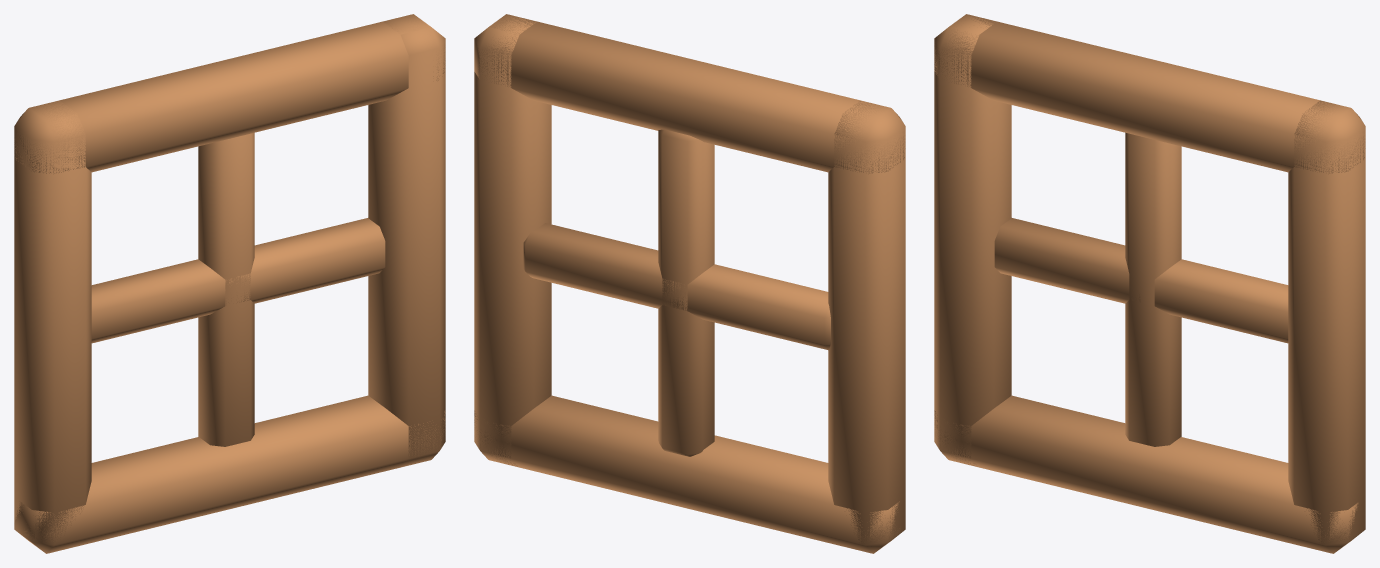
The model's file is Window_Cross.glb.
The picture shows the model from 3 angles, left to right: view 1: azimuth 30°, elevation 25°; view 2: azimuth 150°, elevation 25°; view 3: azimuth 330°, elevation 25°; orthographic projection.
Visible parts, largest first — view 1: Window_Cross; view 2: Window_Cross; view 3: Window_Cross.
Boxes of the visible parts, left/top/right/bottom form: Window_Cross: left=14, top=14, right=445, bottom=553; Window_Cross: left=474, top=14, right=905, bottom=553; Window_Cross: left=934, top=14, right=1365, bottom=553.
Bounding box in the file's own units: 0.52 × 0.52 × 0.075.
